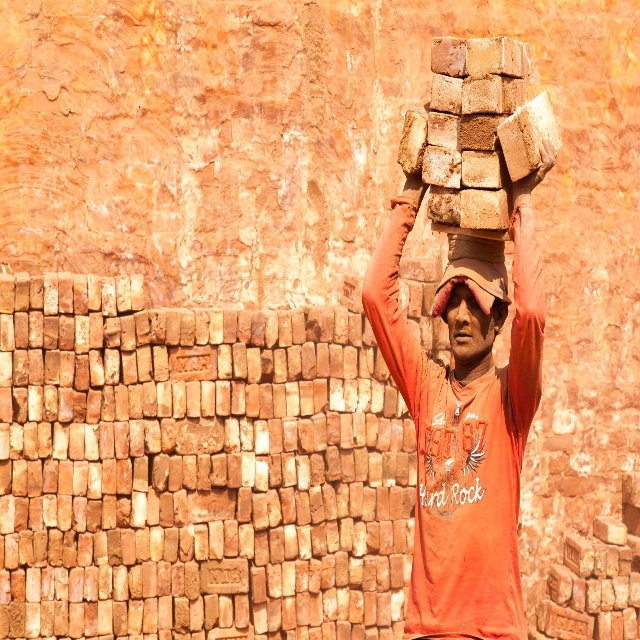Sin_guantes: (513, 135, 557, 190)
